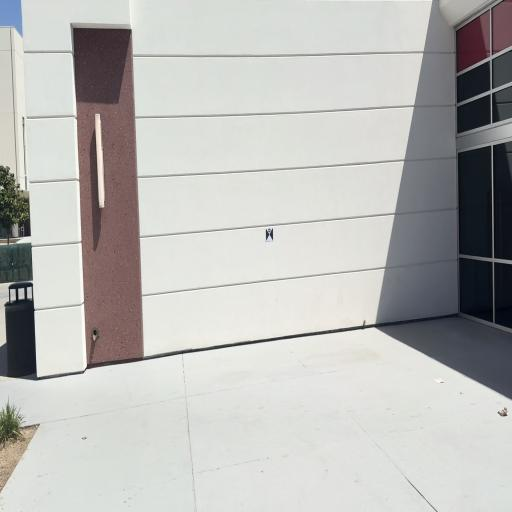target0: (266, 227, 273, 241)
